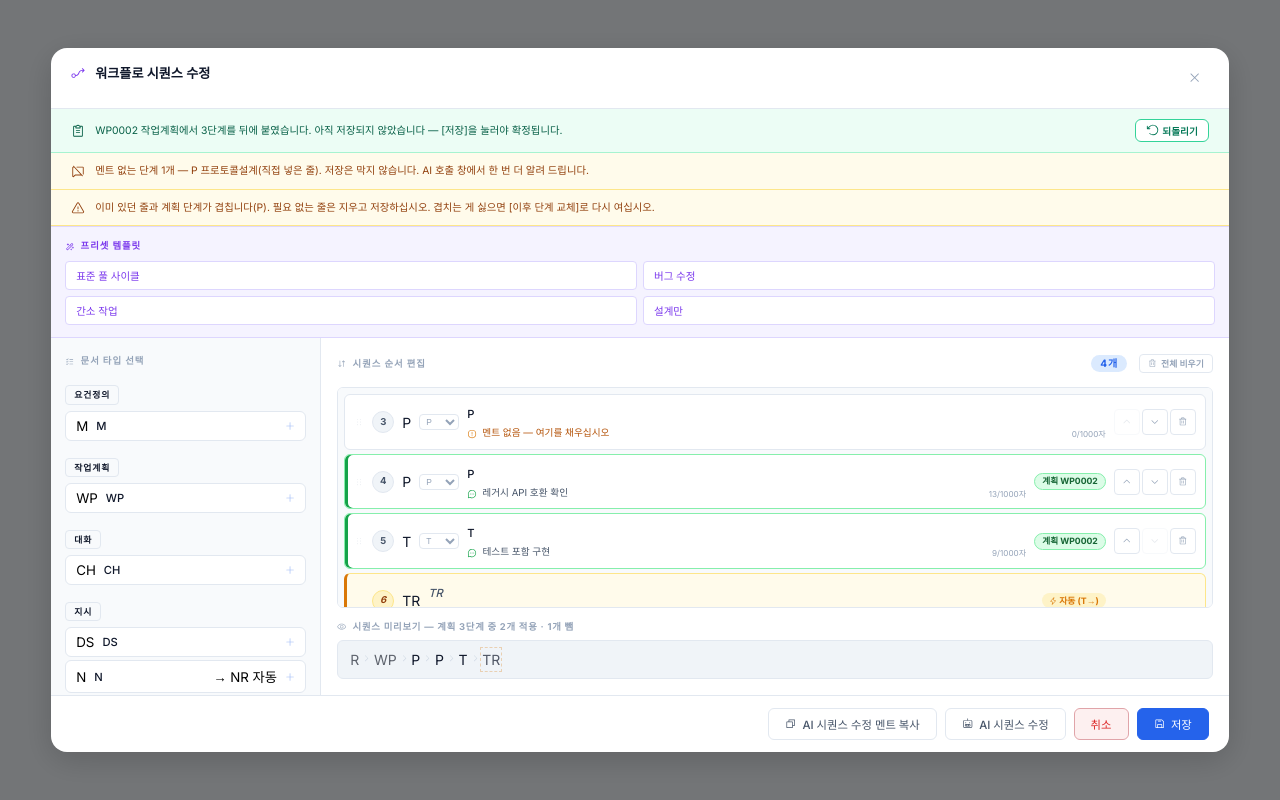
Test: 계획 줄로 채워진 시퀀스 수정 창 › 부은 뒤 줄을 지우면 배너와 미리보기 캡션이 그 차이를 적는다
The image size is (1280, 800).
Check: the element with class "wdm-banner" does not show "그 뒤 직접"
Check: the element with class "wdm-preview-label" shows "계획 3단계 중 2개 적용", box [424,621,574,632]
Click the button named "삭제" in the row of "13/1000자" at (1183, 482), box [1170,469,1196,495]
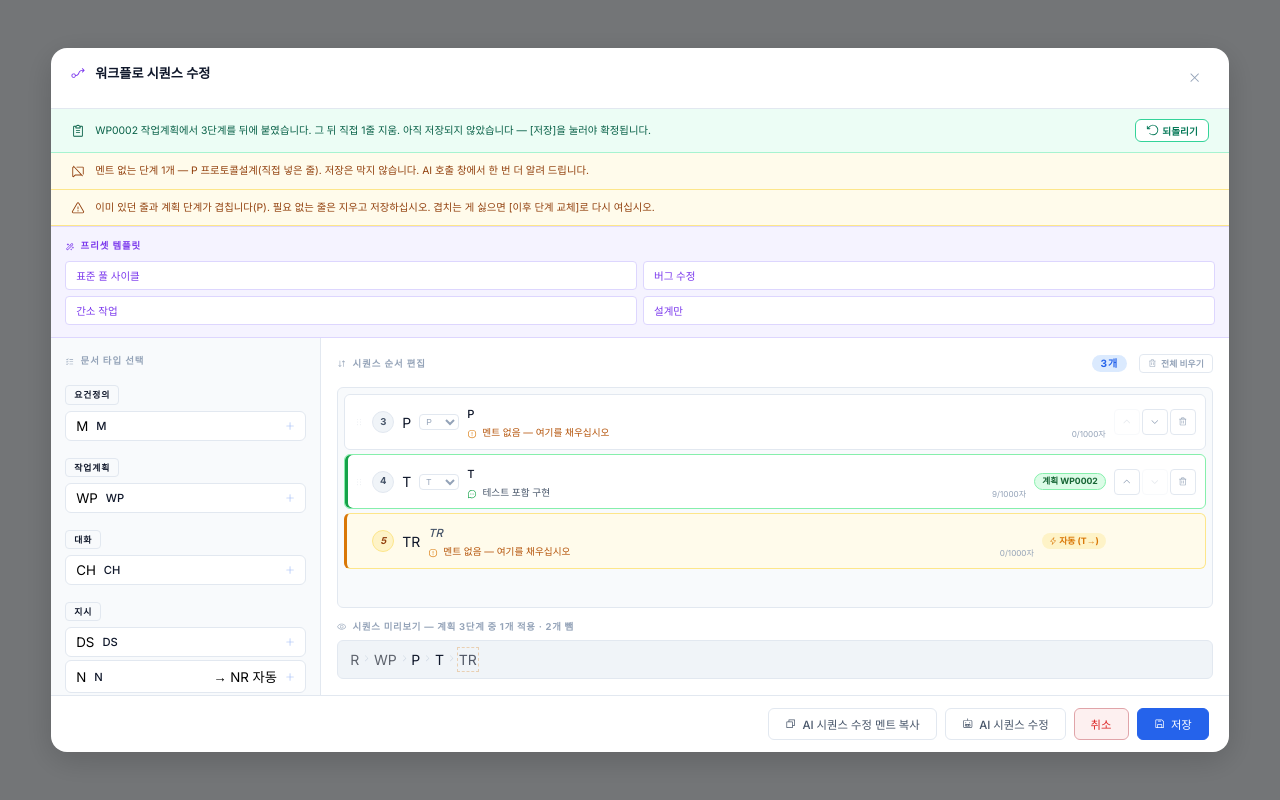
Check: the element with class "wdm-banner" shows "1줄 지움", box [314,124,400,136]
Check: the element with class "wdm-preview-label" shows "계획 3단계 중 1개 적용", box [424,621,574,632]
Check: the element with class "wdm-preview-label" shows "2개 뺌", box [424,621,574,632]
